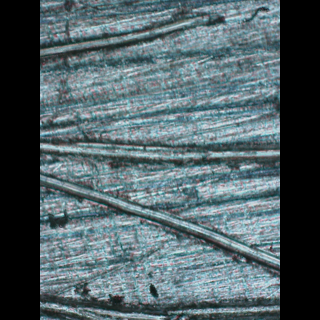d: (41, 170, 279, 271), (40, 11, 224, 66), (41, 133, 279, 165), (40, 292, 279, 320)
